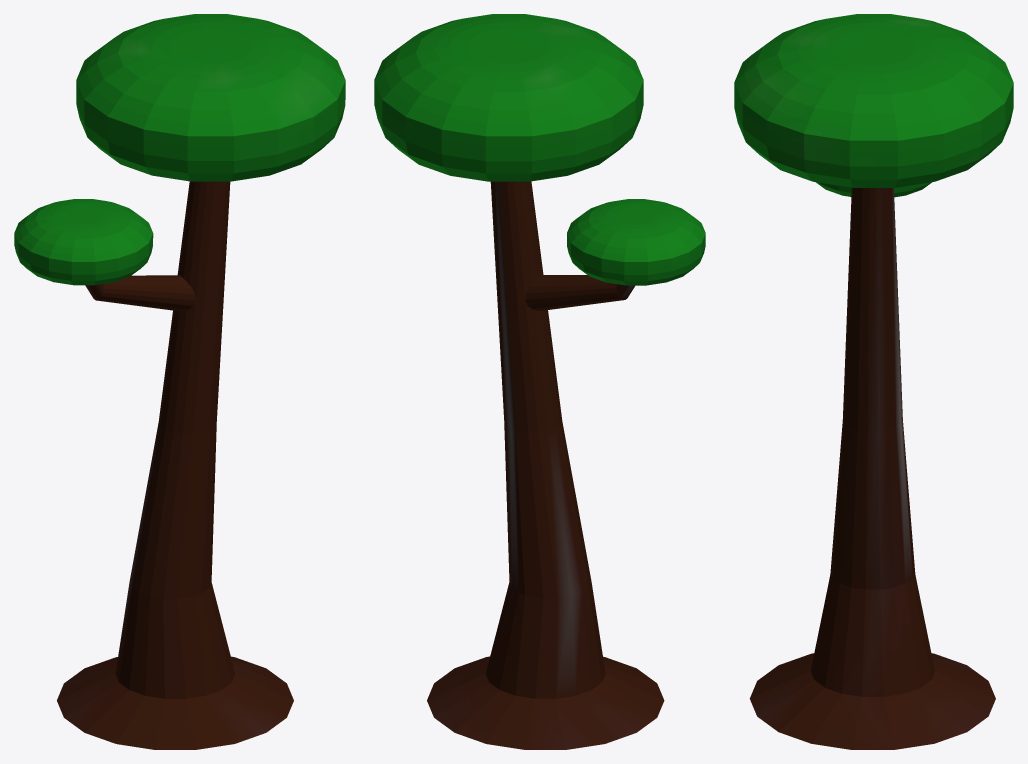
Rendered from arvore_simples.fbx.
The picture shows the model from 3 angles, left to right: view 1: azimuth 30°, elevation 25°; view 2: azimuth 150°, elevation 25°; view 3: azimuth 270°, elevation 25°; orthographic projection. The views are drawn at different scales.
Visible parts, largest first — view 1: arvore_simples; view 2: arvore_simples; view 3: arvore_simples.
Boxes of the visible parts, x1,y1,x2,y2 form: arvore_simples: (14,14,345,749); arvore_simples: (374,14,705,749); arvore_simples: (734,14,1013,749).
Bounding box in the file's own units: 127 × 261 × 98.71.
